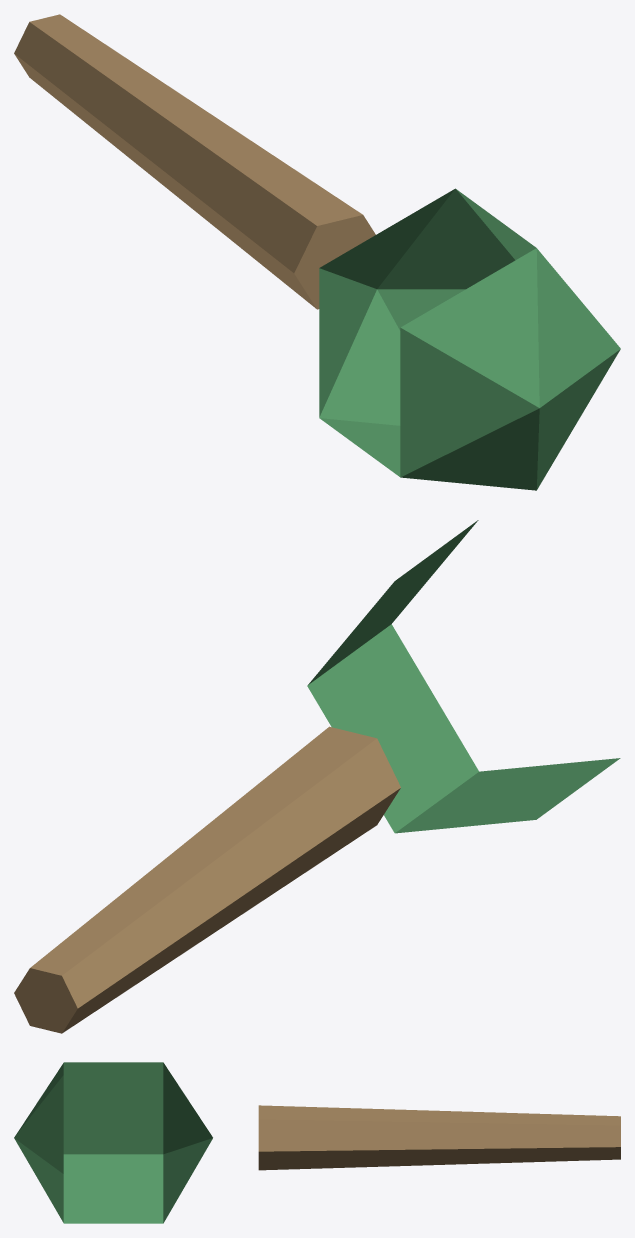
Rendered from oak_tree_low.glb.
3 views of the same model, one above another, from view 1: azimuth 30°, elevation 25°; view 2: azimuth 150°, elevation 25°; view 3: azimuth 270°, elevation 25° (orthographic). The views are drawn at different scales.
Parts seen in each view (by area): view 1: geometry_0; view 2: geometry_0; view 3: geometry_0.
Part boxes in pixels (bbox=[...]): geometry_0: bbox=[14, 14, 620, 490]; geometry_0: bbox=[14, 520, 620, 1033]; geometry_0: bbox=[14, 1062, 620, 1223].
Size of the model in its own units: 0.8617 by 0.906 by 3.35.
